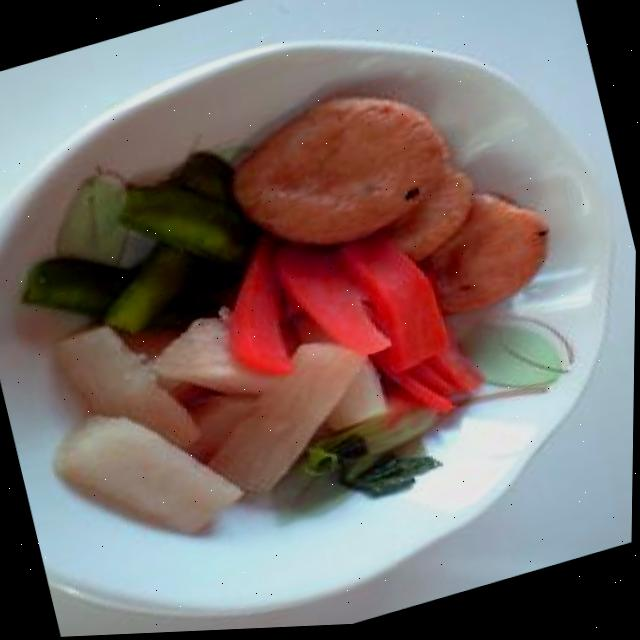熟制海鲜: (104, 6, 597, 446)
